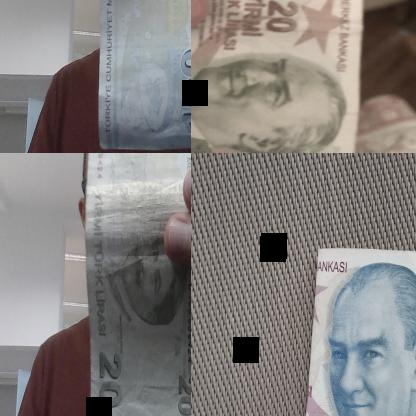5 TL: (97, 0, 190, 149)
